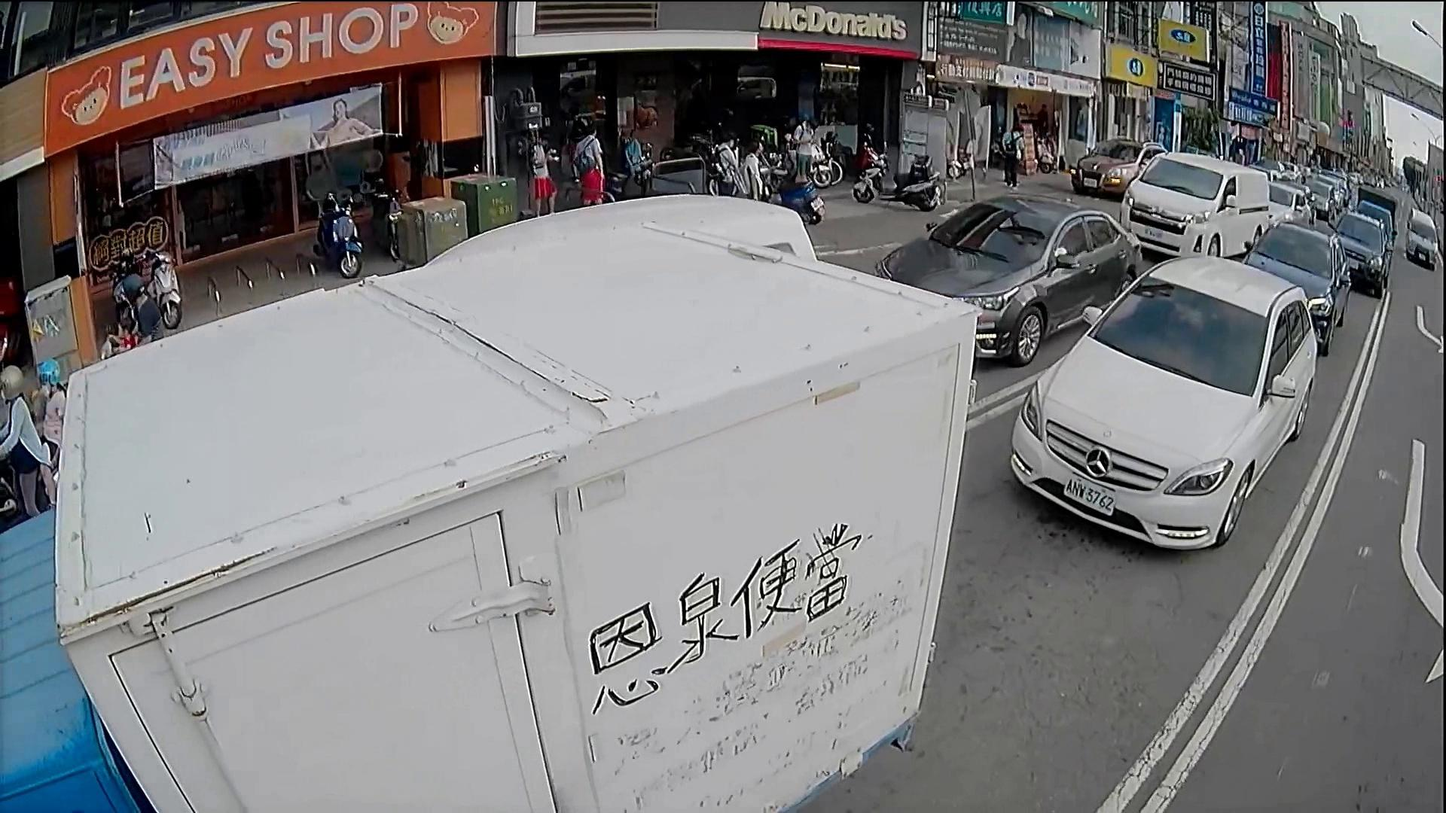person: (0, 361, 47, 519), (114, 266, 160, 345), (570, 120, 609, 206), (737, 142, 773, 204), (532, 131, 556, 215), (792, 114, 816, 187), (709, 139, 738, 197), (563, 104, 593, 145), (1000, 126, 1020, 187)
